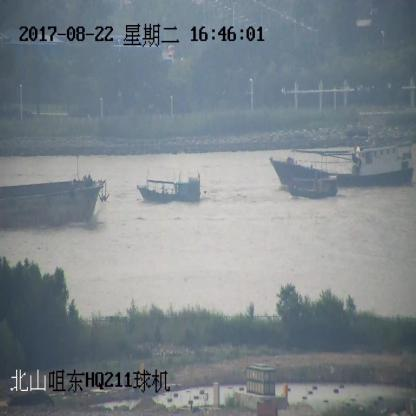Bulk Carrier: (0, 174, 108, 230)
